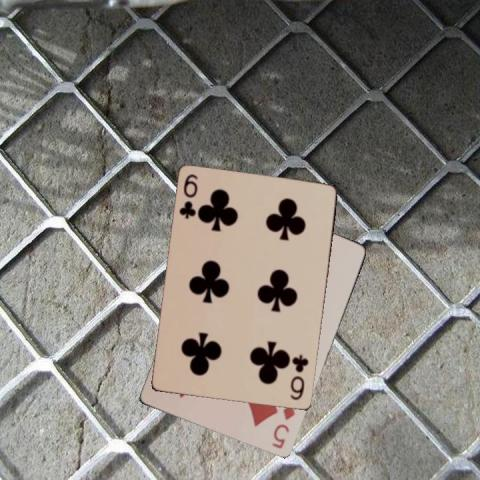5d: (268, 400, 296, 450)
6c: (287, 352, 310, 402), (177, 171, 200, 221)
